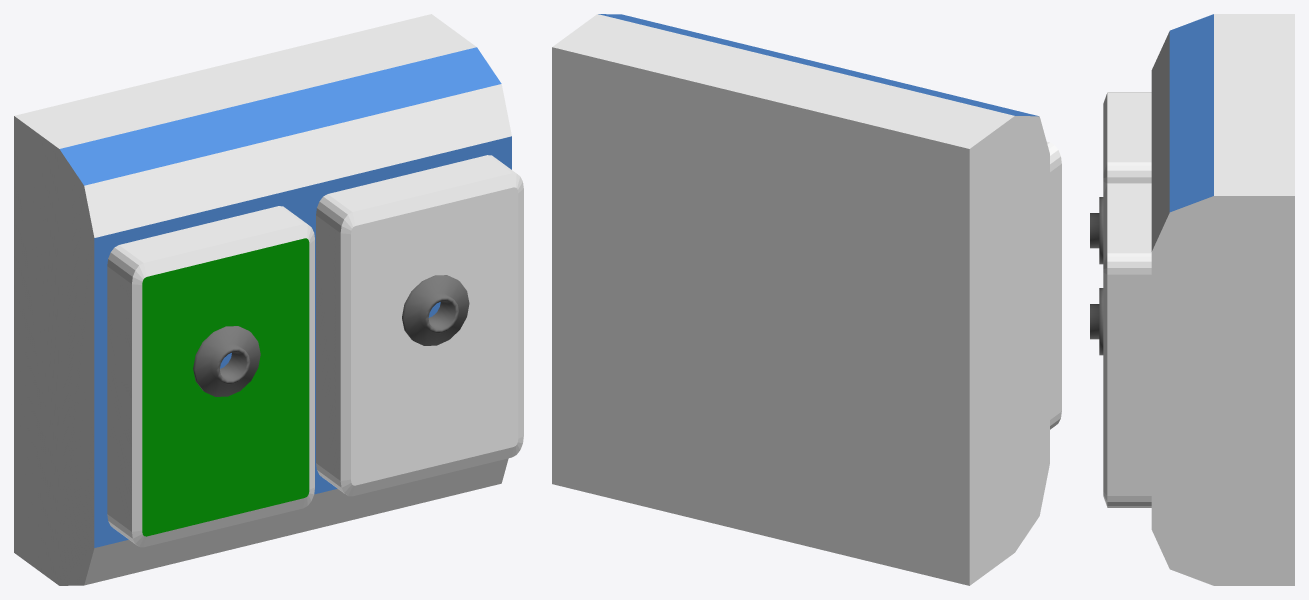
Rendered from TM-5-SalidasOV.fbx.
The picture shows the model from 3 angles, left to right: view 1: azimuth 30°, elevation 25°; view 2: azimuth 150°, elevation 25°; view 3: azimuth 270°, elevation 25°; orthographic projection. The views are drawn at different scales.
Parts seen in each view (by area): view 1: TM-5-SalidasOV; view 2: TM-5-SalidasOV; view 3: TM-5-SalidasOV.
Part boxes in pixels (<box>): TM-5-SalidasOV: <box>14,14,523,585</box>; TM-5-SalidasOV: <box>552,14,1061,585</box>; TM-5-SalidasOV: <box>1090,14,1294,585</box>.
Size of the model in its own units: 30 by 30 by 14.29.
